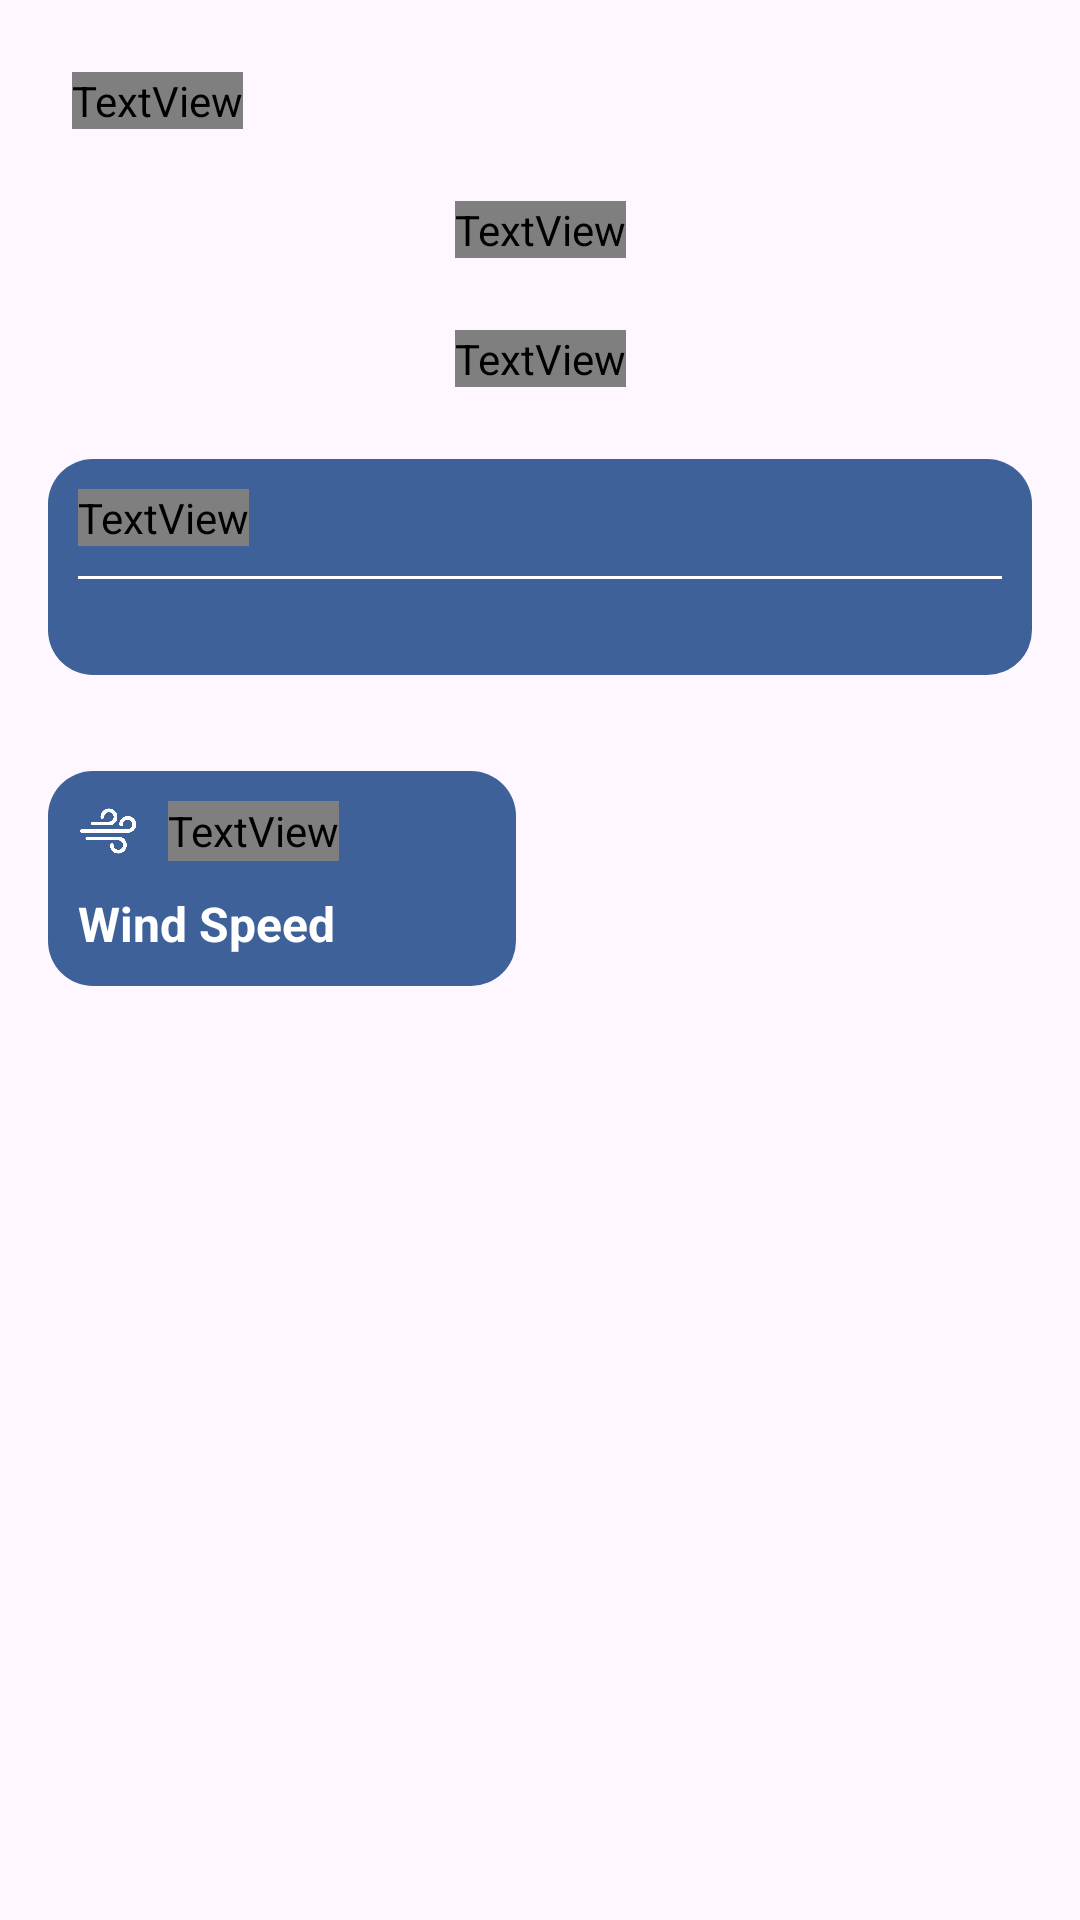

Where to tap for icons on this 1080w x 1920h app screen, as (x=x, y=y):
windy: (x=108, y=831)
